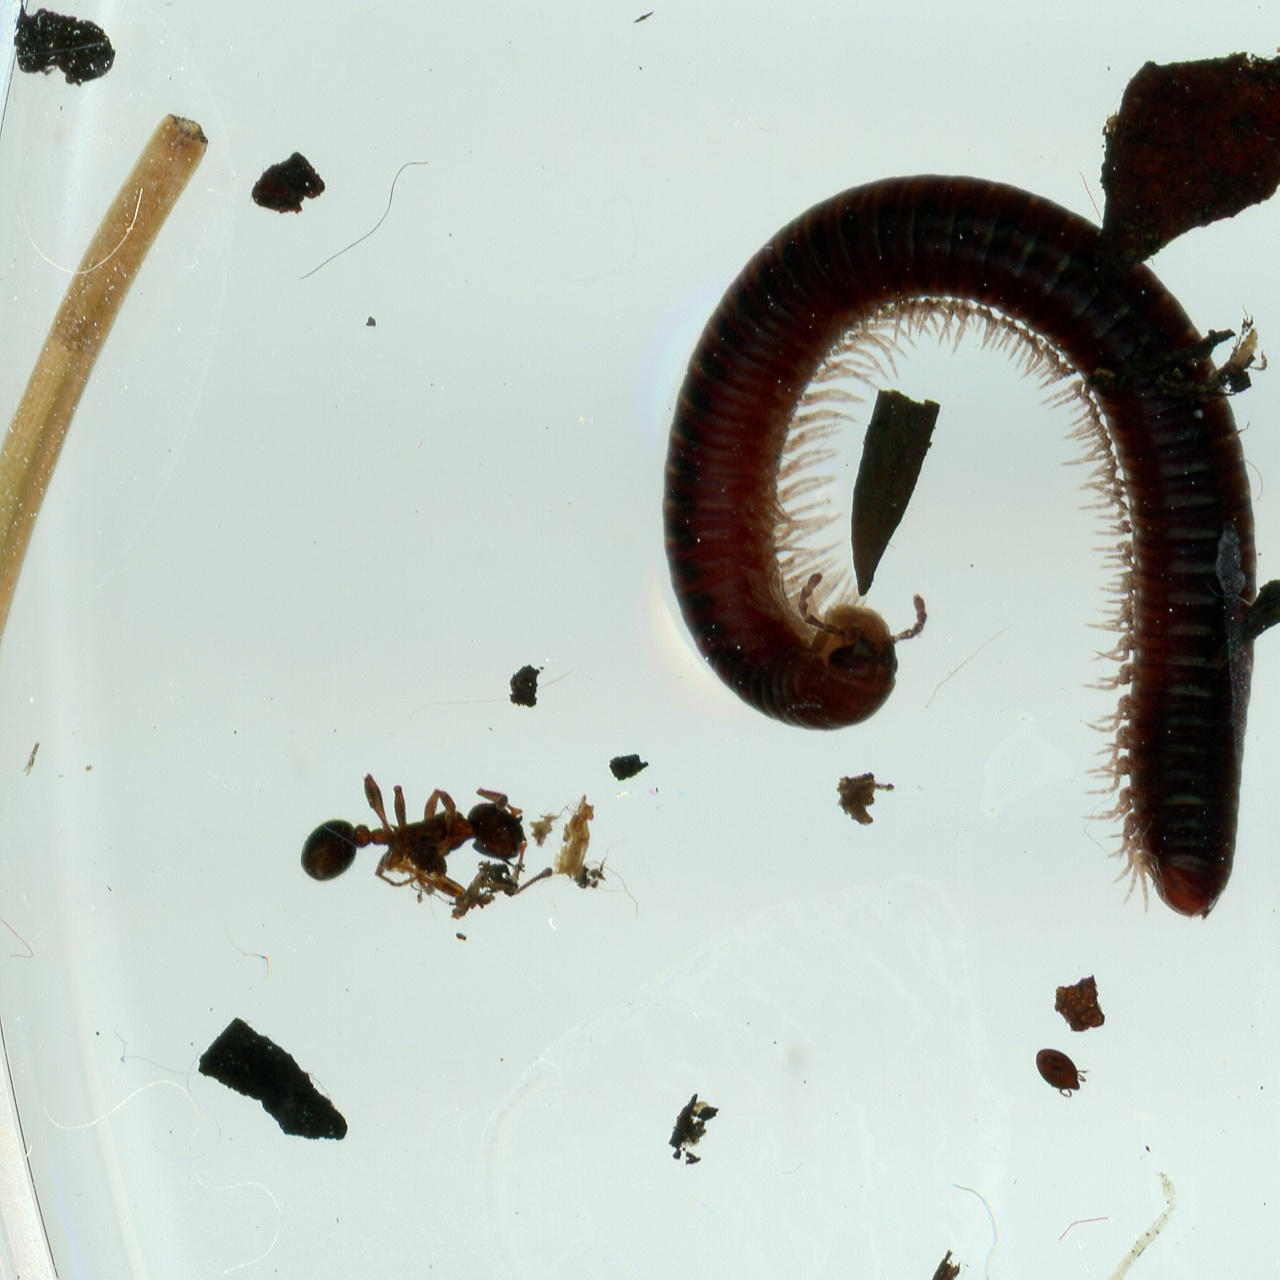arthropod: (651, 162, 1268, 926), (295, 770, 558, 905), (1022, 1034, 1097, 1105)
